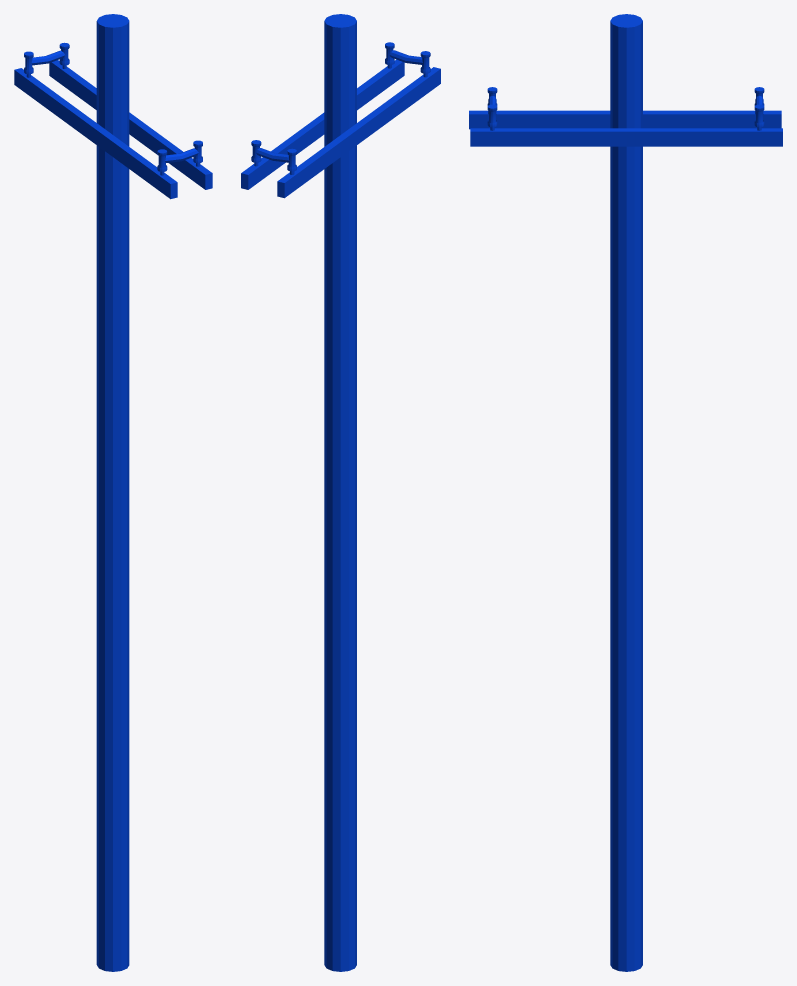
The model's file is Envi_TelePole_v02.fbx.
3 renders of one model, left to right at view 1: azimuth 30°, elevation 25°; view 2: azimuth 150°, elevation 25°; view 3: azimuth 270°, elevation 25°, orthographic.
Visible parts, largest first — view 1: Truck_Ex_Set01_Telephone_Pole1, Truck_Ex_Set01_Telephone_Pole_Plank_2, Truck_Ex_Set01_Telephone_Pole_Plank_1; view 2: Truck_Ex_Set01_Telephone_Pole1, Truck_Ex_Set01_Telephone_Pole_Plank_2, Truck_Ex_Set01_Telephone_Pole_Plank_1; view 3: Truck_Ex_Set01_Telephone_Pole1, Truck_Ex_Set01_Telephone_Pole_Plank_1, Truck_Ex_Set01_Telephone_Pole_Plank_2.
Part boxes in pixels (box(x1,y1,x2,y2)): Truck_Ex_Set01_Telephone_Pole1: box(96, 14, 129, 971); Truck_Ex_Set01_Telephone_Pole_Plank_2: box(14, 68, 177, 199); Truck_Ex_Set01_Telephone_Pole_Plank_1: box(49, 60, 212, 189); Truck_Ex_Set01_Telephone_Pole1: box(324, 14, 356, 971); Truck_Ex_Set01_Telephone_Pole_Plank_2: box(277, 67, 440, 198); Truck_Ex_Set01_Telephone_Pole_Plank_1: box(241, 59, 404, 189); Truck_Ex_Set01_Telephone_Pole1: box(610, 14, 642, 971); Truck_Ex_Set01_Telephone_Pole_Plank_1: box(470, 128, 782, 146); Truck_Ex_Set01_Telephone_Pole_Plank_2: box(469, 110, 781, 129).
Size of the model in its own units: 12.25 by 250 by 75.32.
